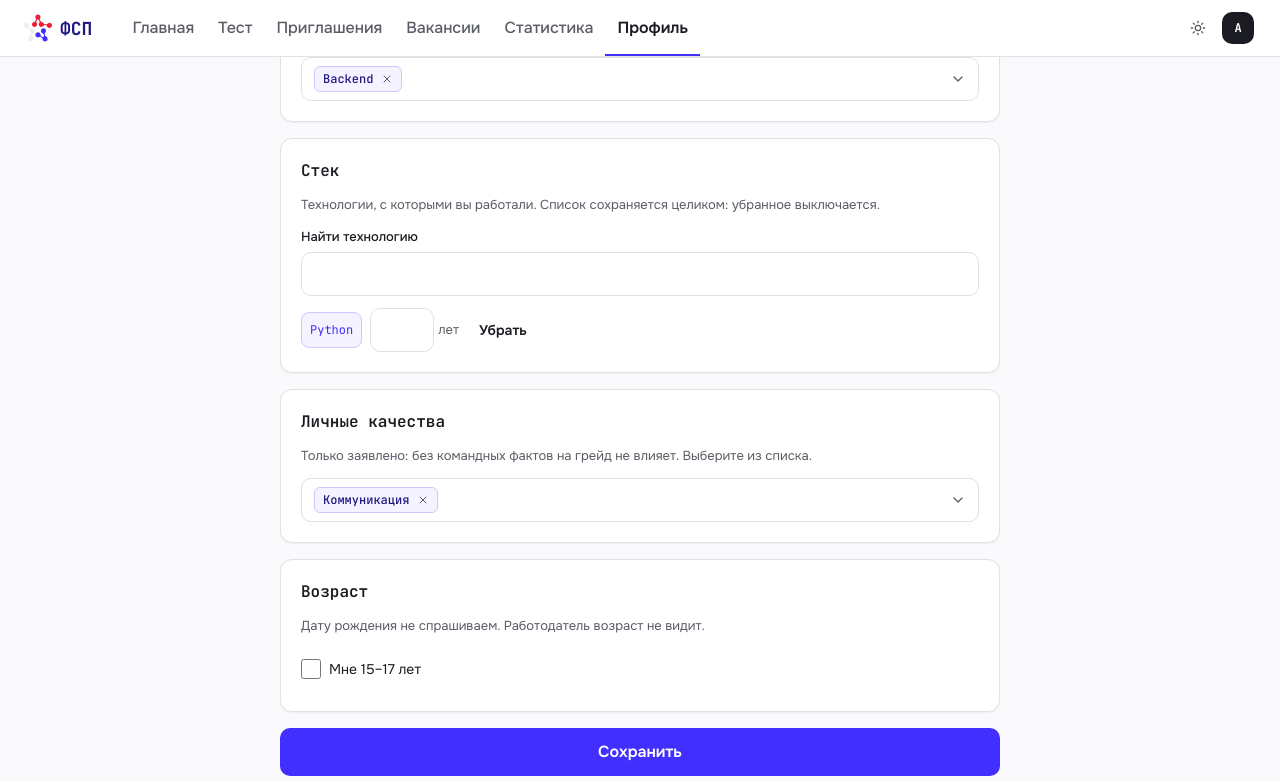
Test: 422 unknown_skill показывается по-русски
(page scrolled)
Click the button with test id "profile-edit-save" at (640, 752), box 280,728 -> 1000,776
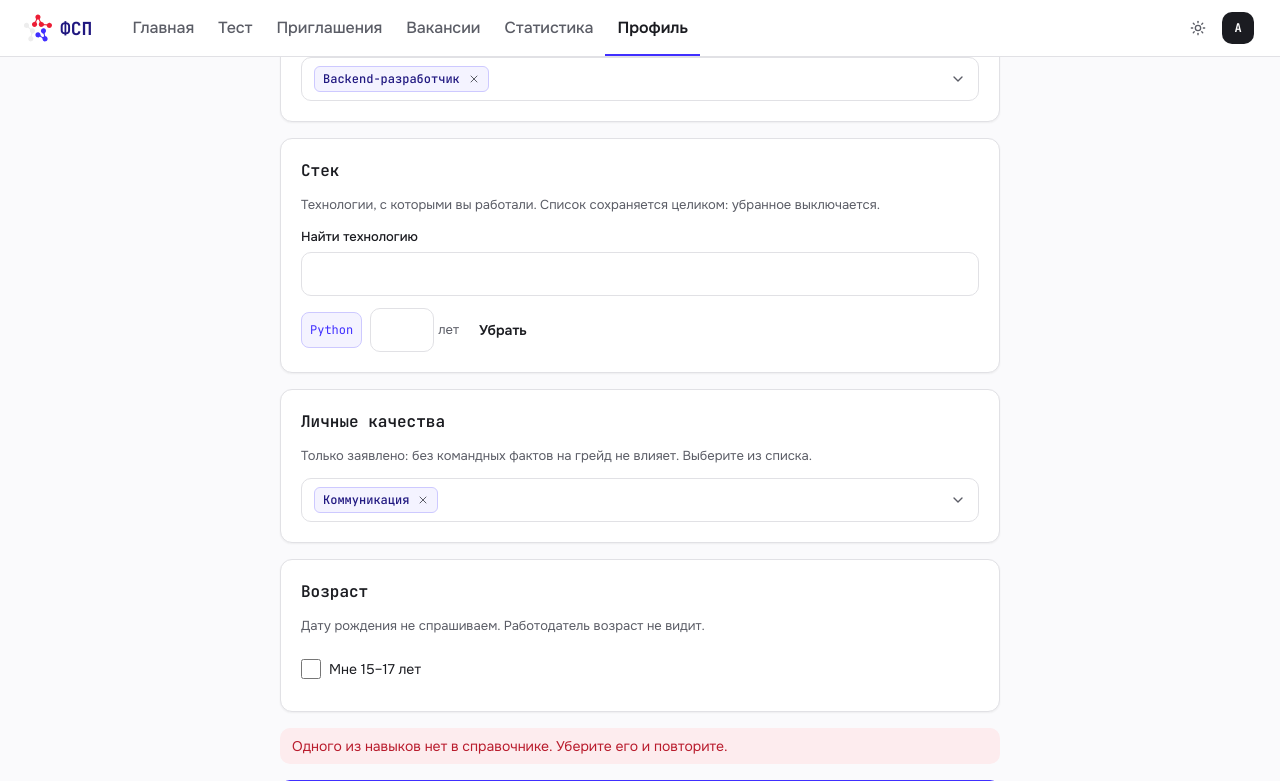
Expected: the message with test id "profile-edit-error" shows "нет в справочнике", 292,737 -> 728,755
